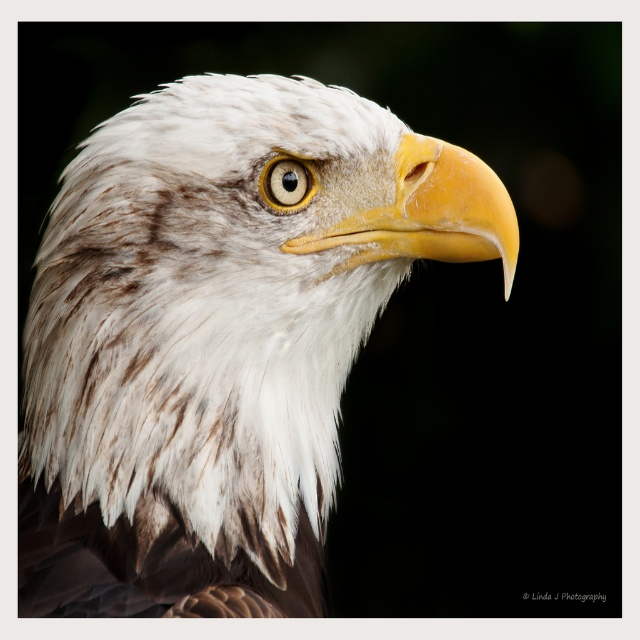Eagle: (4, 70, 521, 625)
